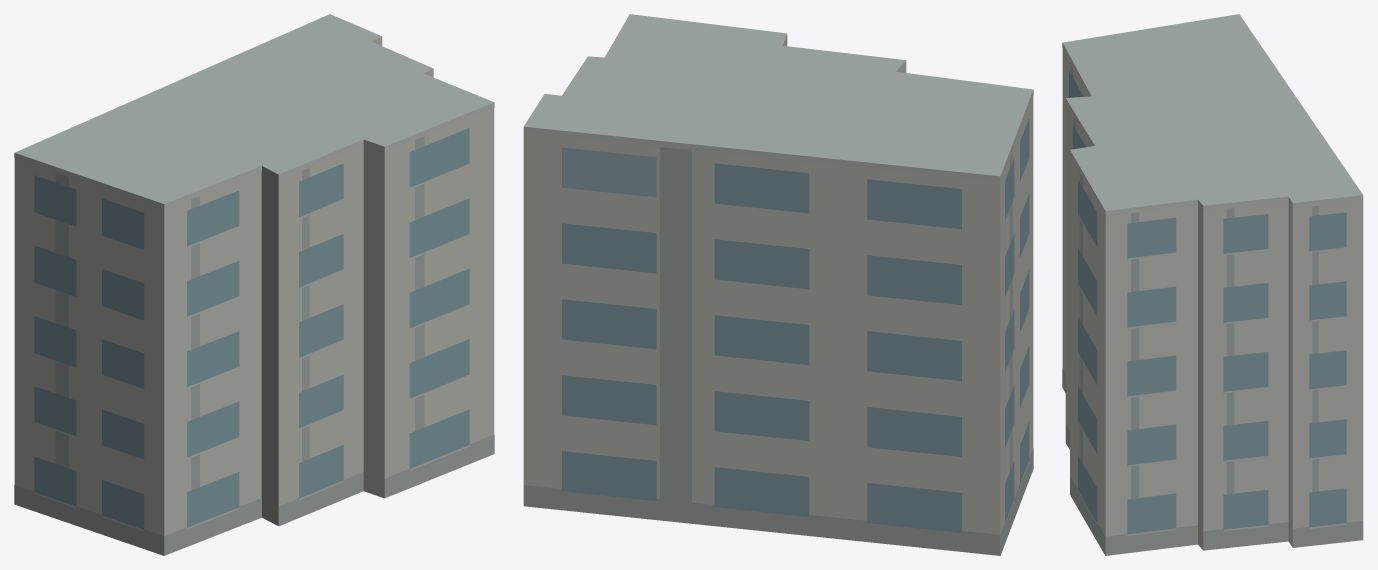
Rendered from survey-upis-32977908.glb.
3 views of the same model, side by side, from view 1: azimuth 30°, elevation 25°; view 2: azimuth 150°, elevation 25°; view 3: azimuth 270°, elevation 25° (orthographic). The views are drawn at different scales.
Visible parts, largest first — view 1: survey-upis-32977908.tmp; view 2: survey-upis-32977908.tmp; view 3: survey-upis-32977908.tmp.
Part boxes in pixels (x1,y1,x2,y2): survey-upis-32977908.tmp: (14,14,494,555); survey-upis-32977908.tmp: (523,14,1033,555); survey-upis-32977908.tmp: (1062,14,1363,555).
Size of the model in its own units: 18.69 by 15.25 by 12.07.
